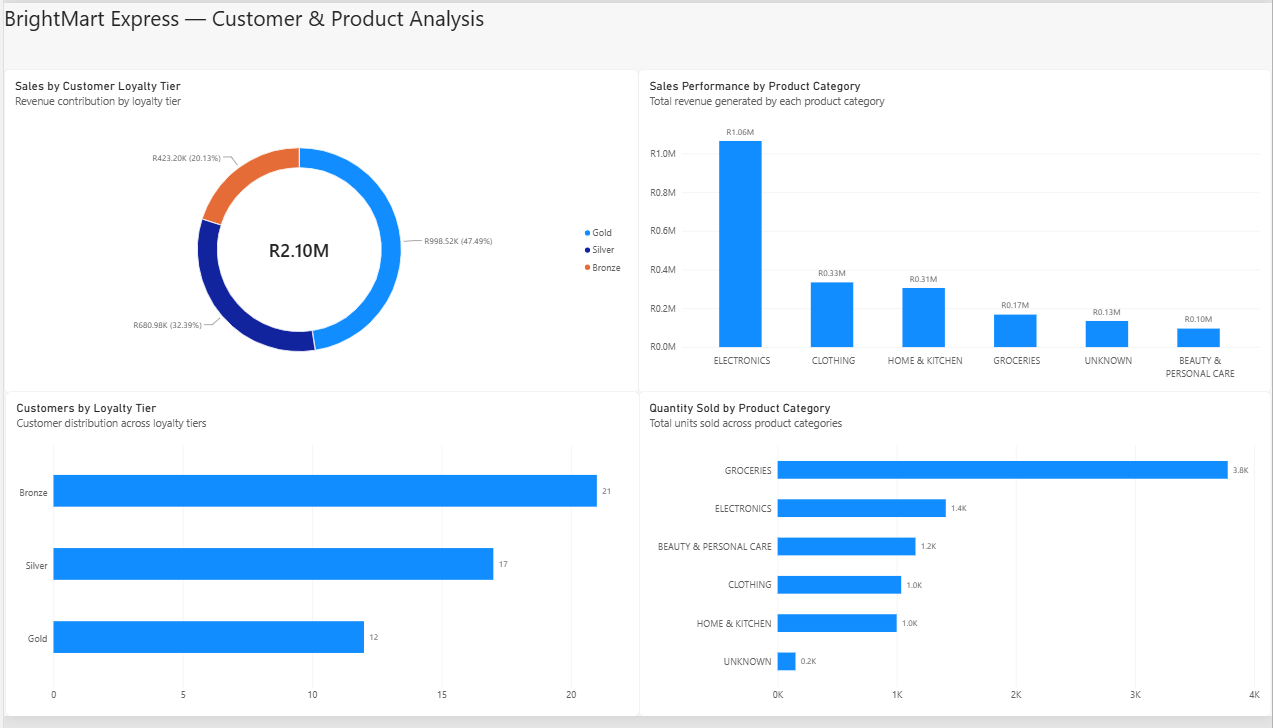

Layout of this report page (visuals, bound fields, positions):
{"tool":"powerbi","page":{"name":"Customer & Product Analysis","canvas":[1920,1080],"ordinal":1},"visuals":[{"type":"donutChart","title":"Sales by Customer Loyalty Tier","fields":{"Category":["dwh_dim_customer.customer_loyalty_tier"],"Y":["dwh_fact_sales.Total Sales"]},"box":[0,99.2,961,490.4],"z":0},{"type":"clusteredColumnChart","title":"Sales Performance by Product Category","fields":{"Category":["dwh_dim_product.category"],"Y":["dwh_fact_sales.Total Sales"]},"box":[961,99.2,958.1,490.4],"z":1},{"type":"clusteredBarChart","title":"Quantity Sold by Product Category","fields":{"Category":["dwh_dim_product.category"],"Y":["dwh_fact_sales.Total Quantity"]},"box":[959.9,588.9,957.8,491.8],"z":2},{"type":"clusteredBarChart","title":"Customers by Loyalty Tier","fields":{"Category":["dwh_dim_customer.customer_loyalty_tier"],"Y":["dwh_fact_sales.Total Customers"]},"box":[2.2,588.9,959.9,491.8],"z":3},{"type":"textbox","box":[100,100,300,300],"z":4},{"type":"textbox","box":[0,0,772.2,99.9],"z":5}]}

Visuals, with their boxes in screenshot pixels (x1, y1, x2, y2), scaled from the page's 1920x1080 canvas onto the 1273x728 screenshot:
"Sales by Customer Loyalty Tier" donutChart: {"left": 0, "top": 67, "right": 637, "bottom": 397}
"Sales Performance by Product Category" clusteredColumnChart: {"left": 637, "top": 67, "right": 1272, "bottom": 397}
"Quantity Sold by Product Category" clusteredBarChart: {"left": 636, "top": 397, "right": 1271, "bottom": 727}
"Customers by Loyalty Tier" clusteredBarChart: {"left": 1, "top": 397, "right": 638, "bottom": 727}
textbox: {"left": 66, "top": 67, "right": 265, "bottom": 270}
textbox: {"left": 0, "top": 0, "right": 512, "bottom": 67}
